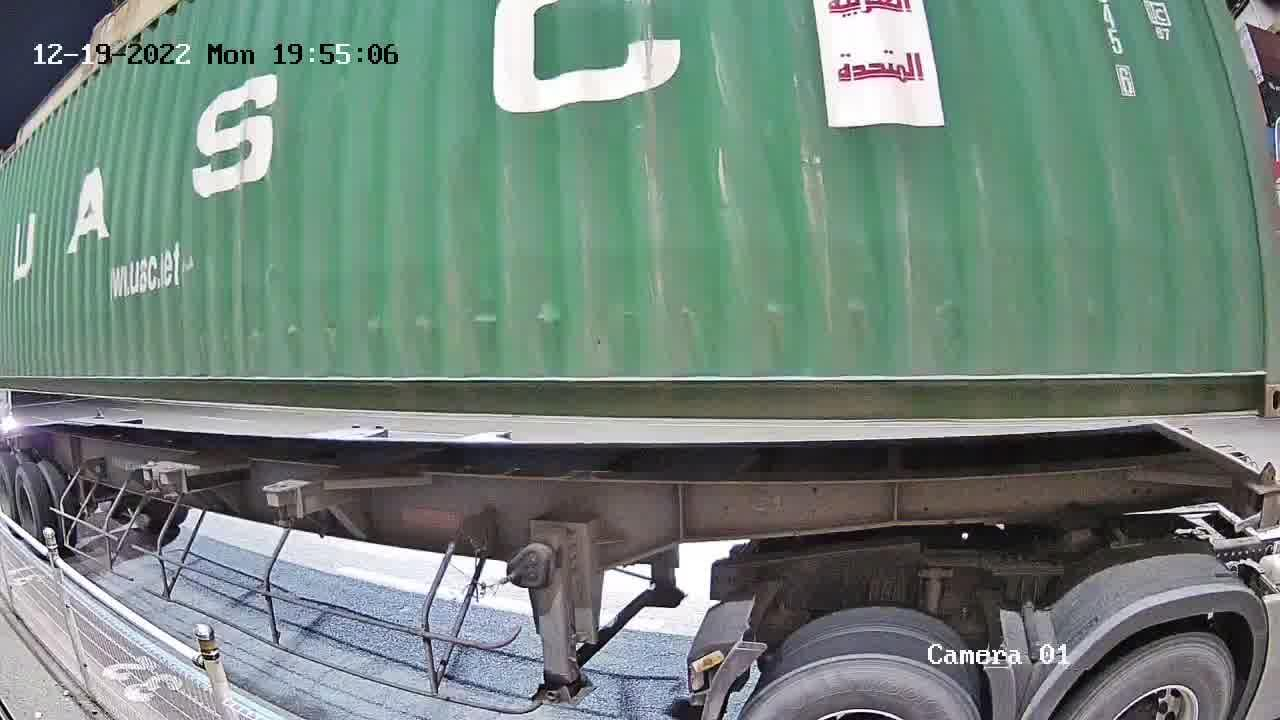Chassis: (1135, 419, 1279, 496)
Cone: (1246, 457, 1279, 528)
Hole_R: (1206, 338, 1279, 414)
Tire: (745, 656, 975, 714), (1072, 636, 1236, 716)
